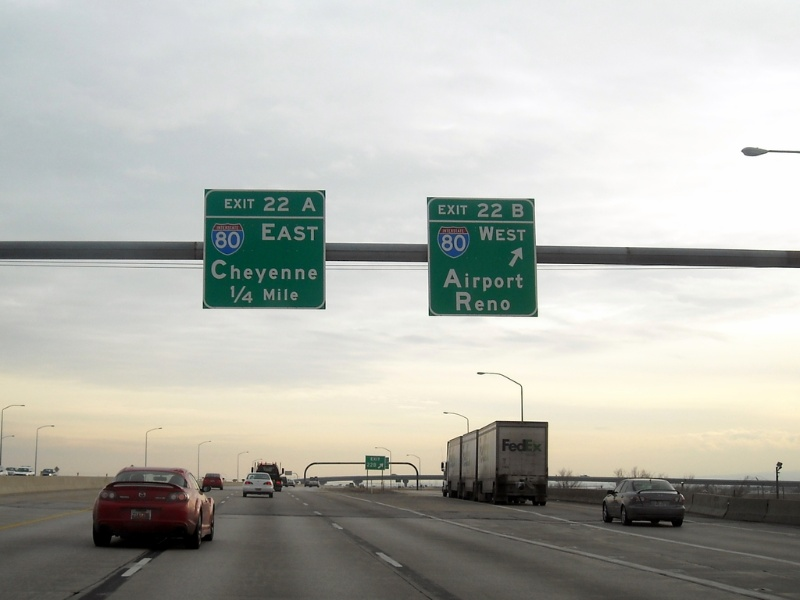straight_direction: (507, 244, 527, 267)
